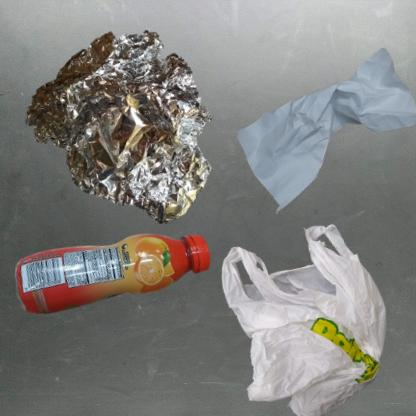aluminio: (10, 10, 239, 235)
bolsa: (213, 213, 416, 416)
botella: (10, 213, 226, 341)
papel: (213, 10, 416, 265)
